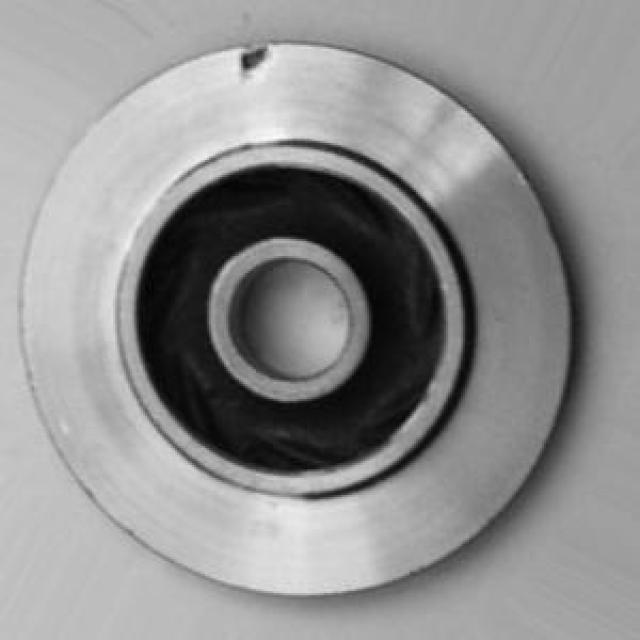Defect: (233, 40, 275, 79)
